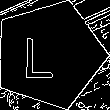L_N: (33, 29, 66, 80)
